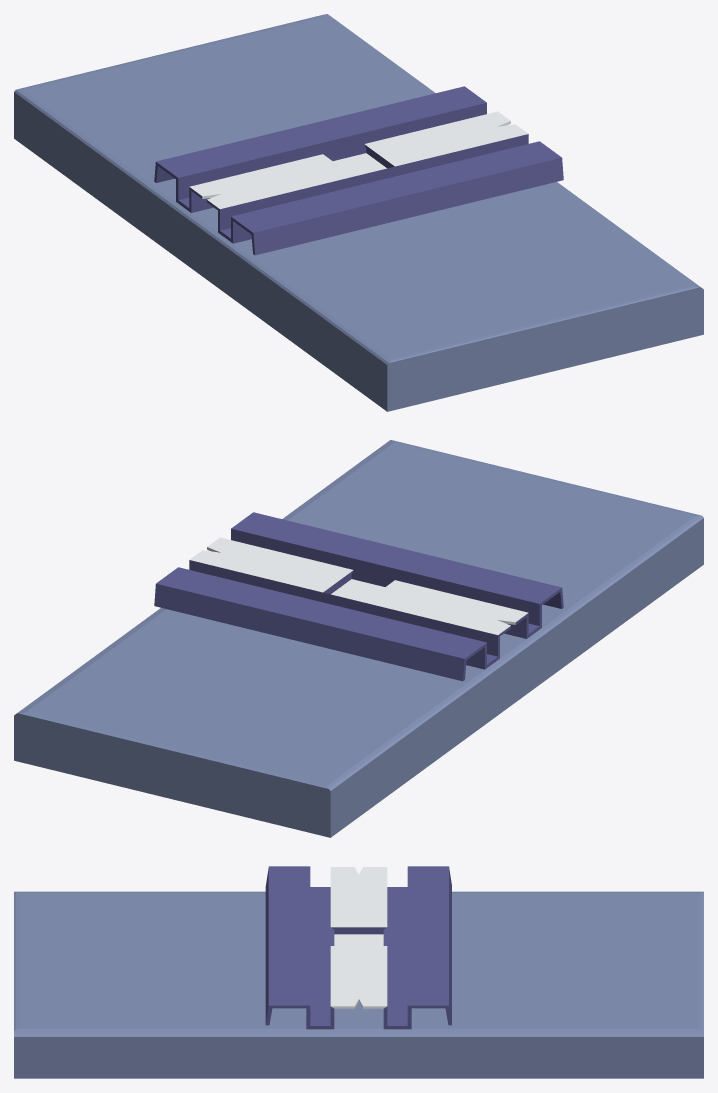
Rendered from Hypocytometer.fbx.
The picture shows the model from 3 angles, top to bottom: view 1: azimuth 30°, elevation 25°; view 2: azimuth 150°, elevation 25°; view 3: azimuth 270°, elevation 25°; orthographic projection. The views are drawn at different scales.
Parts seen in each view (by area): view 1: Hemocytometer; view 2: Hemocytometer; view 3: Hemocytometer.
Boxes of the visible parts, x1,y1,x2,y2 form: Hemocytometer: (14, 14, 703, 411); Hemocytometer: (14, 440, 703, 837); Hemocytometer: (14, 866, 703, 1078).
Bounding box in the file's own units: 25.33 × 5.89 × 51.75.
